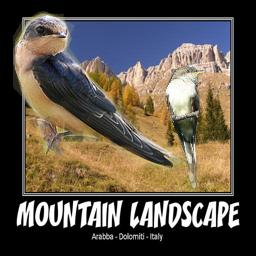Cuckoo: (165, 65, 206, 191)
Swallow: (13, 6, 191, 176)
